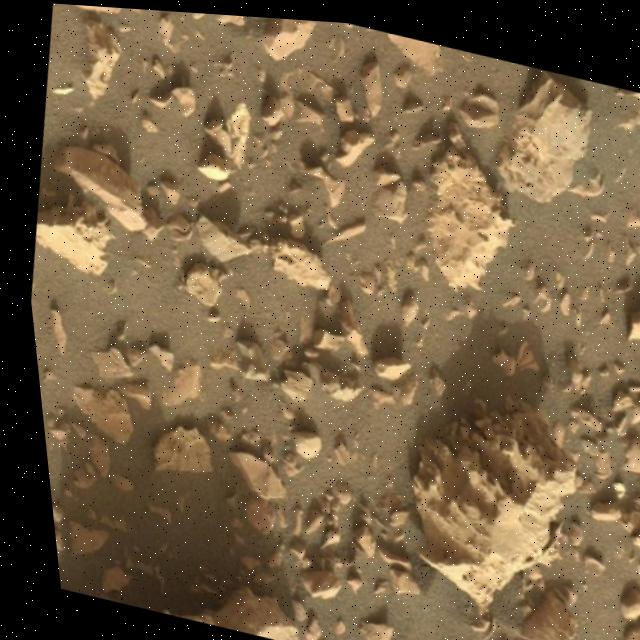mars-rocks: (402, 395, 566, 601), (421, 123, 509, 282), (494, 62, 590, 192), (48, 143, 134, 207), (29, 201, 105, 273)
